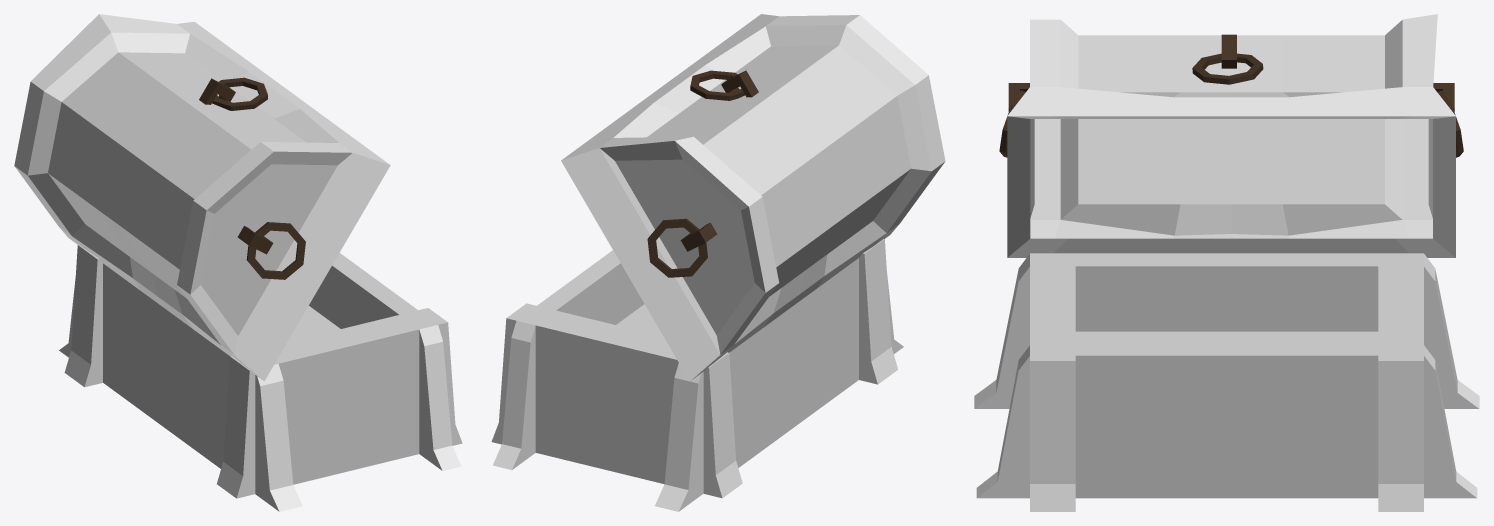
Rendered from open_chest.fbx.
3 renders of one model, left to right at view 1: azimuth 30°, elevation 25°; view 2: azimuth 150°, elevation 25°; view 3: azimuth 270°, elevation 25°, orthographic. The views are drawn at different scales.
Visible parts, largest first — view 1: Cube.016; view 2: Cube.016; view 3: Cube.016.
Part boxes in pixels (<box>): Cube.016: <box>14,14,462,511</box>; Cube.016: <box>491,14,945,511</box>; Cube.016: <box>974,14,1479,511</box>.
Size of the model in its own units: 183 by 221 by 257.
